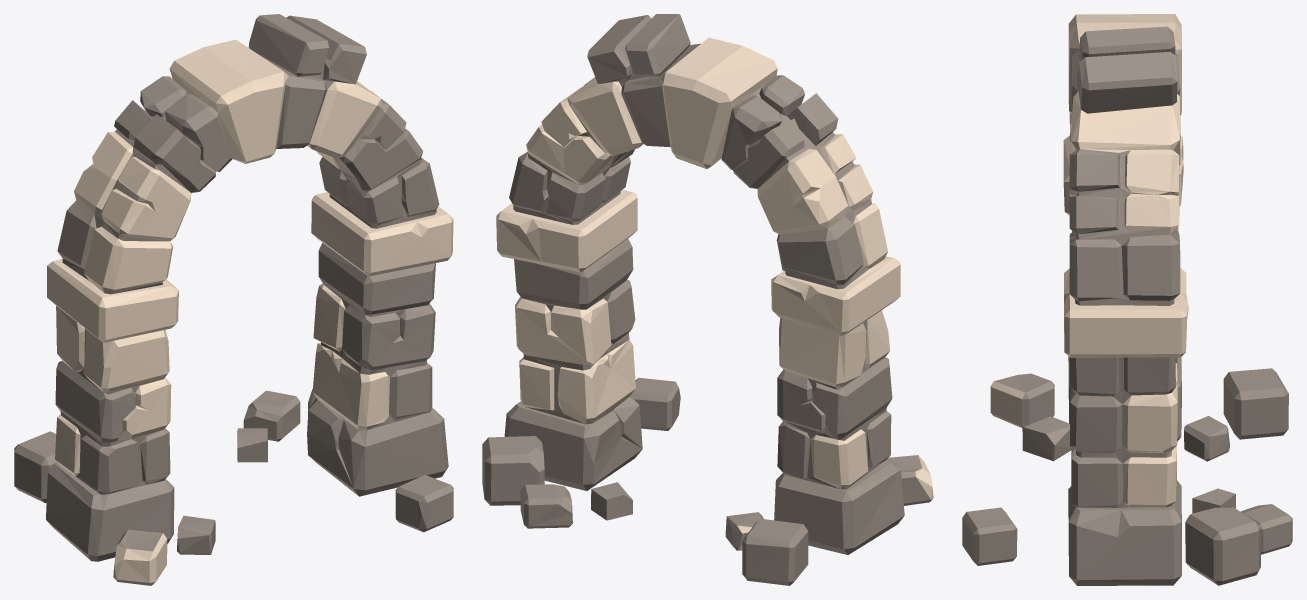
Rendered from RuinedArchway.fbx.
The picture shows the model from 3 angles, left to right: view 1: azimuth 30°, elevation 25°; view 2: azimuth 150°, elevation 25°; view 3: azimuth 270°, elevation 25°; orthographic projection. The views are drawn at different scales.
Visible parts, largest first — view 1: RuinedArchway_LOD0; view 2: RuinedArchway_LOD0; view 3: RuinedArchway_LOD0.
Part boxes in pixels (left/top/right/bottom): RuinedArchway_LOD0: left=14, top=14, right=453, bottom=585; RuinedArchway_LOD0: left=482, top=14, right=933, bottom=585; RuinedArchway_LOD0: left=962, top=14, right=1292, bottom=585.
Size of what is drawn, in the model's own units: 2.84 by 2.13 by 3.47.
